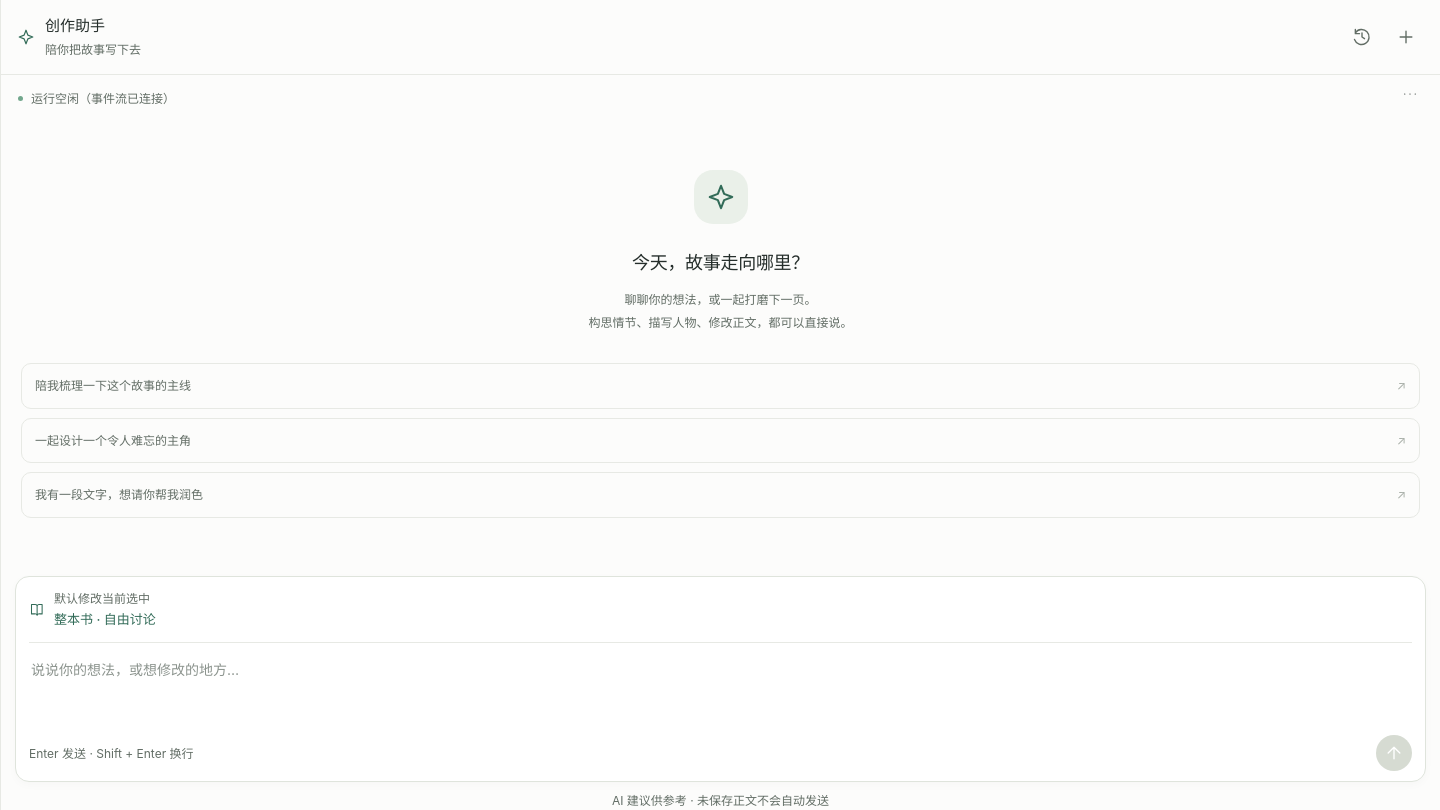
AssistantPanel 草稿保留与在途修改 › 发送在途时用户继续改字：成功后也不覆盖用户的新输入
In the text box named "消息输入": coordinates (720, 692) [29,656,1412,728], type "初稿"
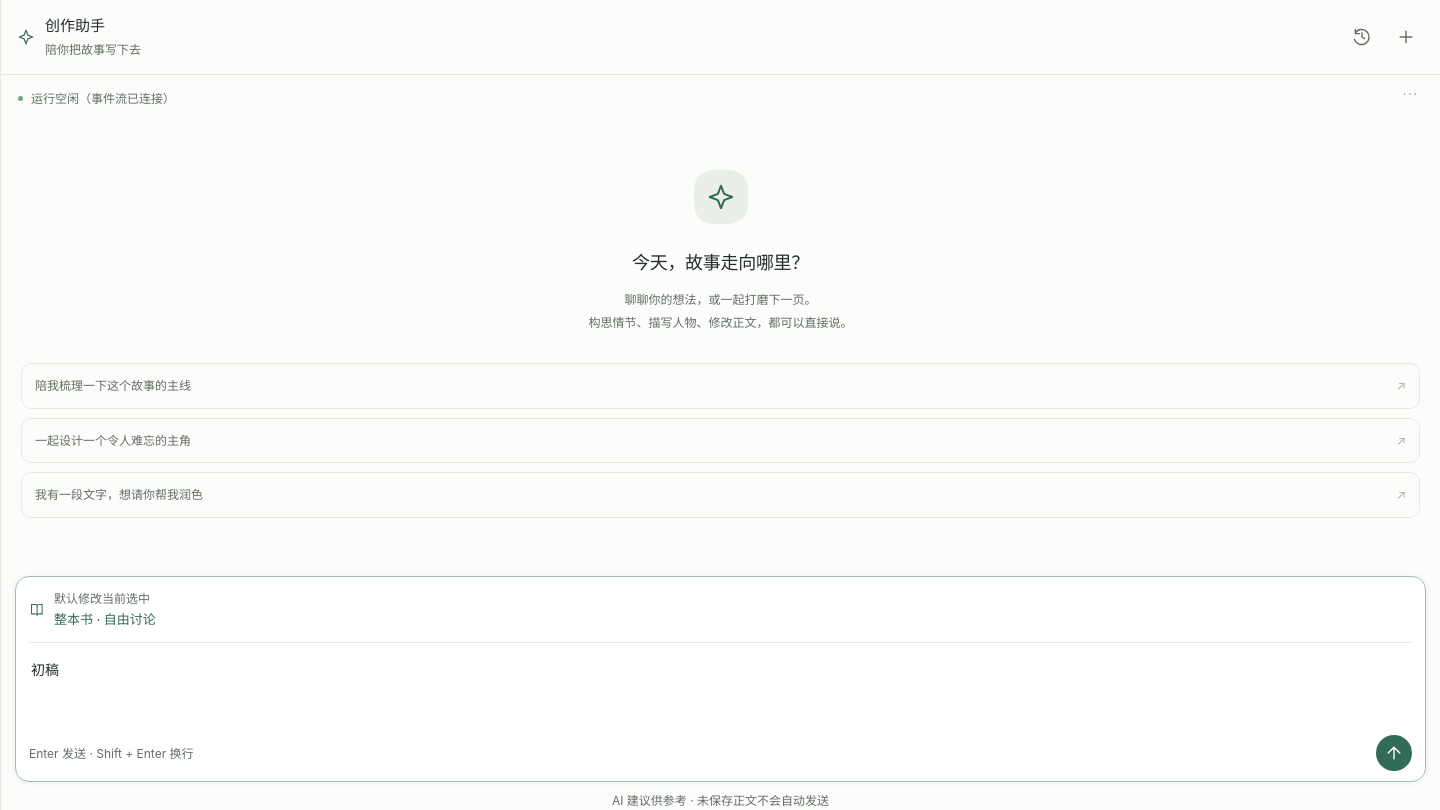
Press Enter
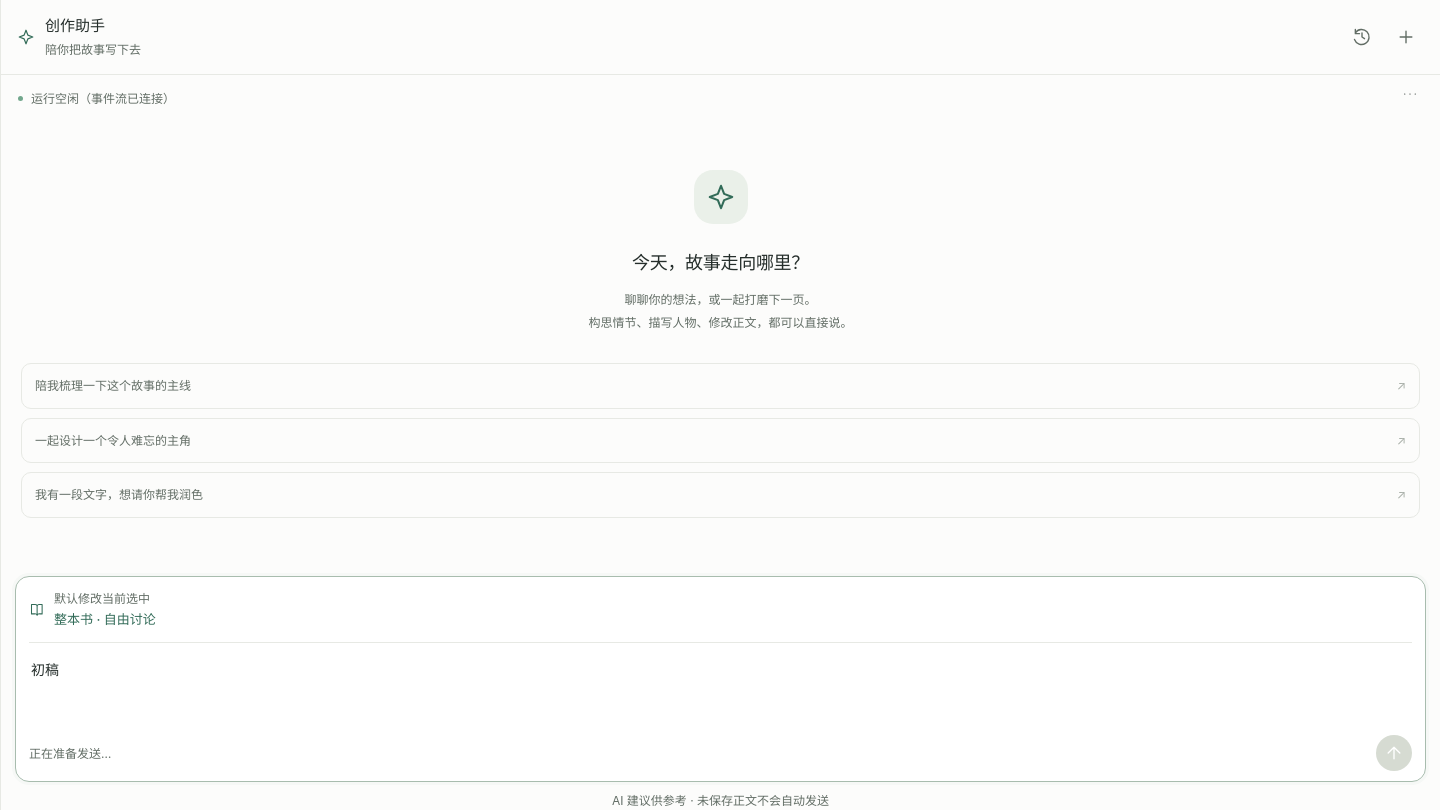
In the text box named "消息输入": coordinates (720, 692) [29,656,1412,728], type "补充"
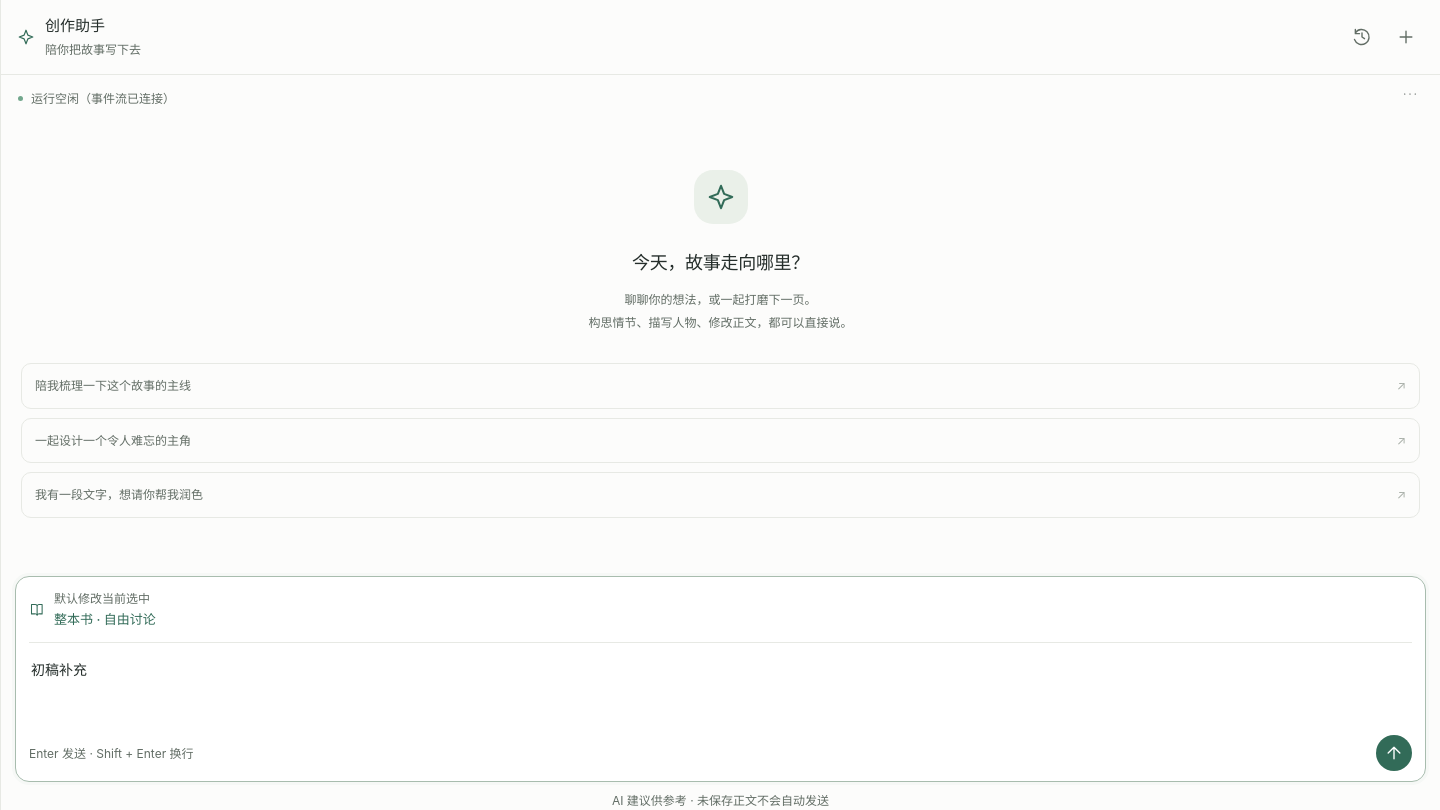
Expected: the text box named "消息输入" holds "初稿补充", [29,656,1412,728]
